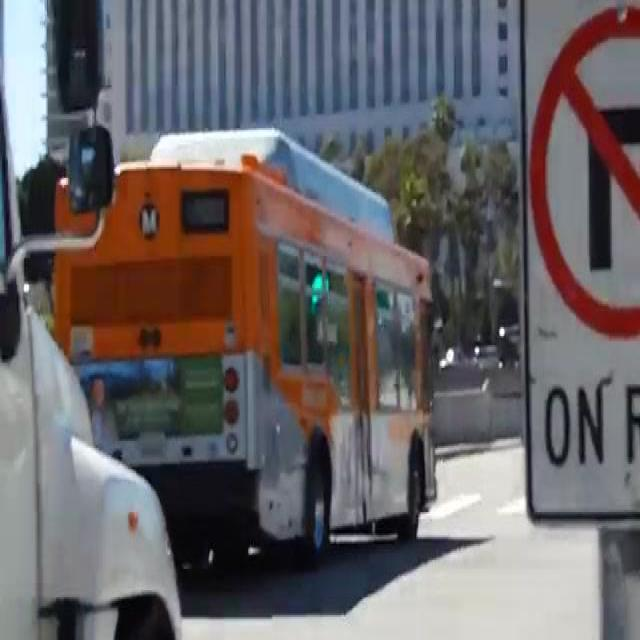motorcycle: (21, 151, 457, 578)
